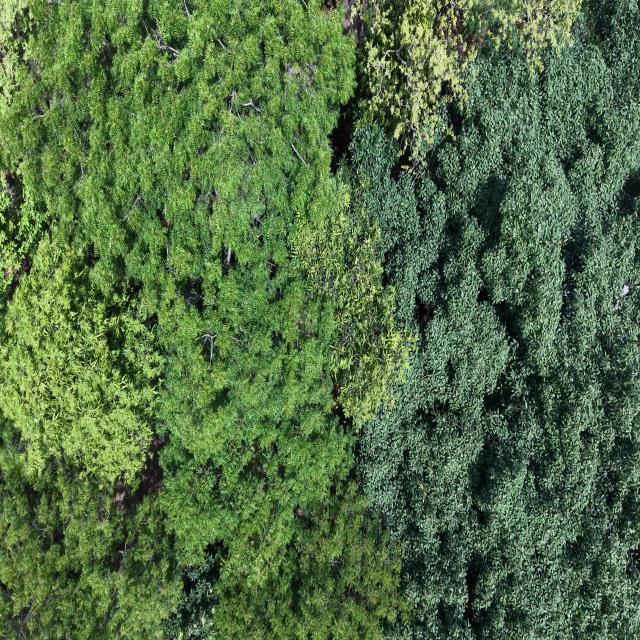VEGETATION_TREE: (0, 0, 639, 639), (0, 2, 407, 637), (352, 7, 639, 639), (0, 237, 162, 485), (350, 0, 581, 163)
